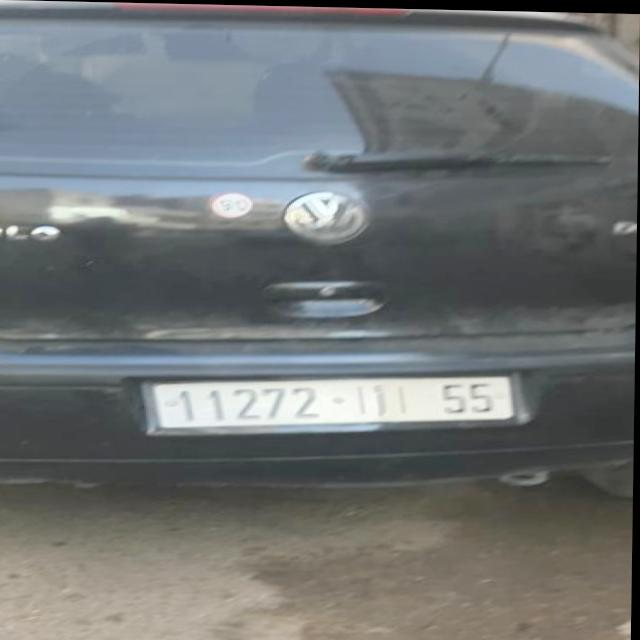License-Plate: (157, 376, 515, 427)
